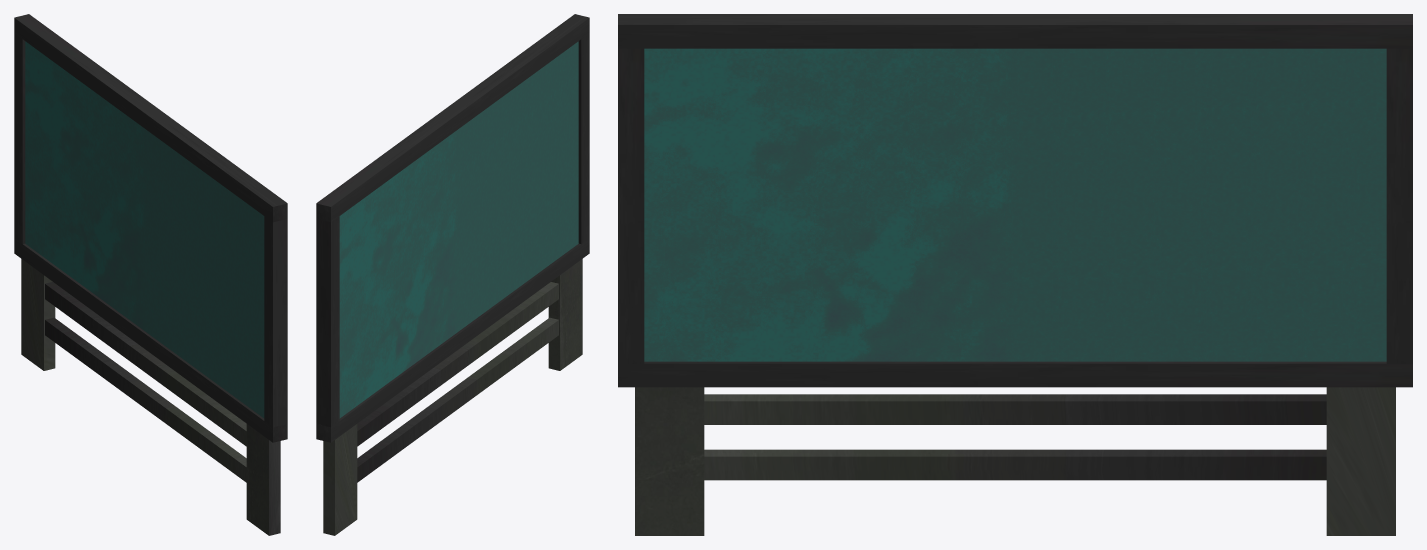
The model's file is billboard.glb.
3 views of the same model, side by side, from view 1: azimuth 30°, elevation 25°; view 2: azimuth 150°, elevation 25°; view 3: azimuth 270°, elevation 25° (orthographic). The views are drawn at different scales.
Parts seen in each view (by area): view 1: Cube.001; view 2: Cube.001; view 3: Cube.001.
Part boxes in pixels (<box>): Cube.001: <box>14,14,287,535</box>; Cube.001: <box>316,14,589,535</box>; Cube.001: <box>618,14,1412,535</box>.
Bounding box in the file's own units: 0.1261 × 2.71 × 3.81.
7 materials, 2 textured.
